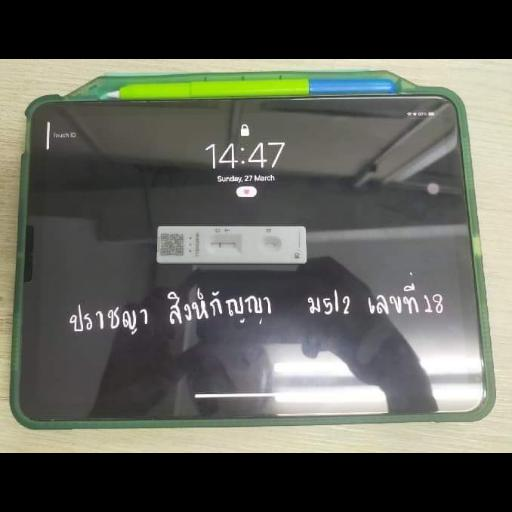Neg: (156, 226, 306, 262)
